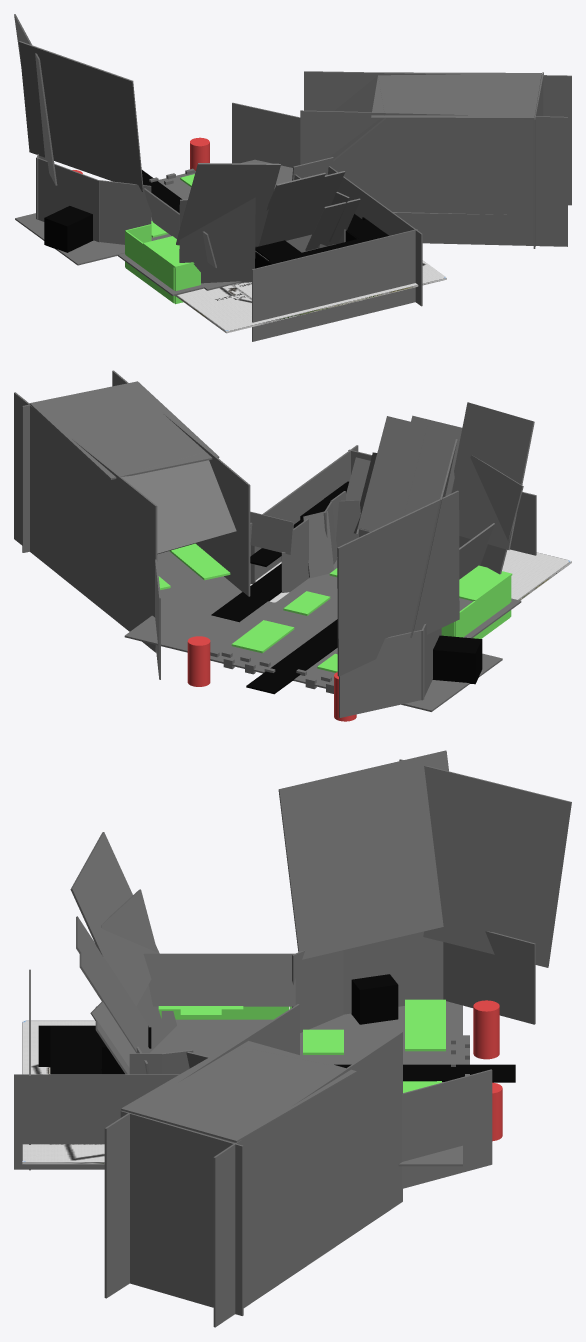
The model's file is blocked out map for alex v2.fbx.
3 renders of one model, top to bottom at view 1: azimuth 30°, elevation 25°; view 2: azimuth 150°, elevation 25°; view 3: azimuth 270°, elevation 25°, orthographic. The views are drawn at different scales.
Visible parts, largest first — view 1: Cube (77), Cube (64), Cube (31), Cube (75), Cube (59), Cube (11), Cube (76), Cube (62), Cube, Cube (60), Cube (22), Cube (9) (+20 smaller); view 2: Cube (76), Cube (65), Cube (75), Cube (59), Cube (74), Cube (63), Cube (1), Cube (7), Cube (10), Cube (77), Cube (22), Cube (61) (+25 smaller); view 3: Cube (76), Cube (64), Cube (65), Cube (78), Cube (75), Cube (30), Cube (62), Cube (8), Cube (77), Cube (63), Cube (59), Cube (60) (+17 smaller).
Boxes of the visible parts, box(x1,y1,x2,y2) form: Cube (77): box(300, 110, 567, 246); Cube (64): box(19, 41, 143, 191); Cube (31): box(252, 229, 417, 341); Cube (75): box(371, 72, 541, 119); Cube (59): box(176, 163, 280, 245); Cube (11): box(179, 197, 255, 283); Cube (76): box(304, 71, 571, 205); Cube (62): box(232, 102, 300, 167); Cube: box(175, 260, 446, 333); Cube (60): box(36, 157, 99, 242); Cube (22): box(255, 172, 325, 247); Cube (9): box(99, 180, 151, 244); Cube (76): box(14, 392, 157, 652); Cube (65): box(337, 490, 459, 676); Cube (75): box(29, 381, 219, 479); Cube (59): box(451, 402, 534, 550); Cube (74): box(121, 460, 236, 554); Cube (63): box(339, 629, 424, 717); Cube (1): box(210, 558, 467, 688); Cube (7): box(357, 416, 427, 531); Cube (10): box(124, 591, 502, 711); Cube (77): box(112, 370, 250, 596); Cube (22): box(404, 415, 462, 515); Cube (61): box(157, 551, 241, 616); Cube (76): box(213, 1031, 402, 1327); Cube (64): box(278, 750, 448, 959); Cube (65): box(399, 759, 571, 967); Cube (78): box(120, 1110, 243, 1315); Cube (75): box(121, 1039, 356, 1142); Cube (30): box(14, 1074, 179, 1169); Cube (62): box(402, 1069, 492, 1188); Cube (8): box(143, 953, 295, 1006); Cube (77): box(104, 1004, 299, 1298); Cube (63): box(443, 931, 535, 1024); Cube (59): box(70, 832, 159, 1005); Cube (60): box(343, 931, 443, 1014).
Bounding box in the file's own units: 34440 × 14969 × 27110.
